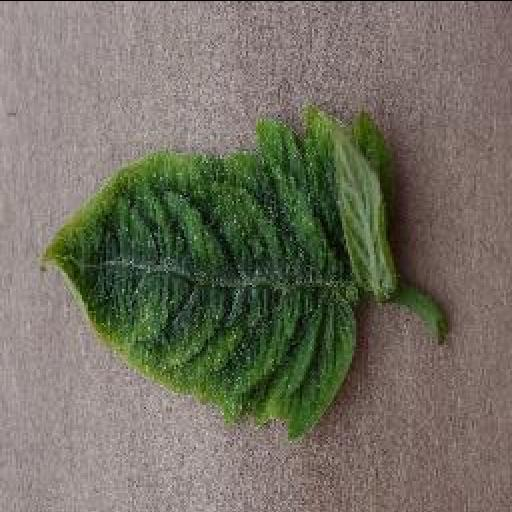disease_tomato: (37, 104, 399, 438)
